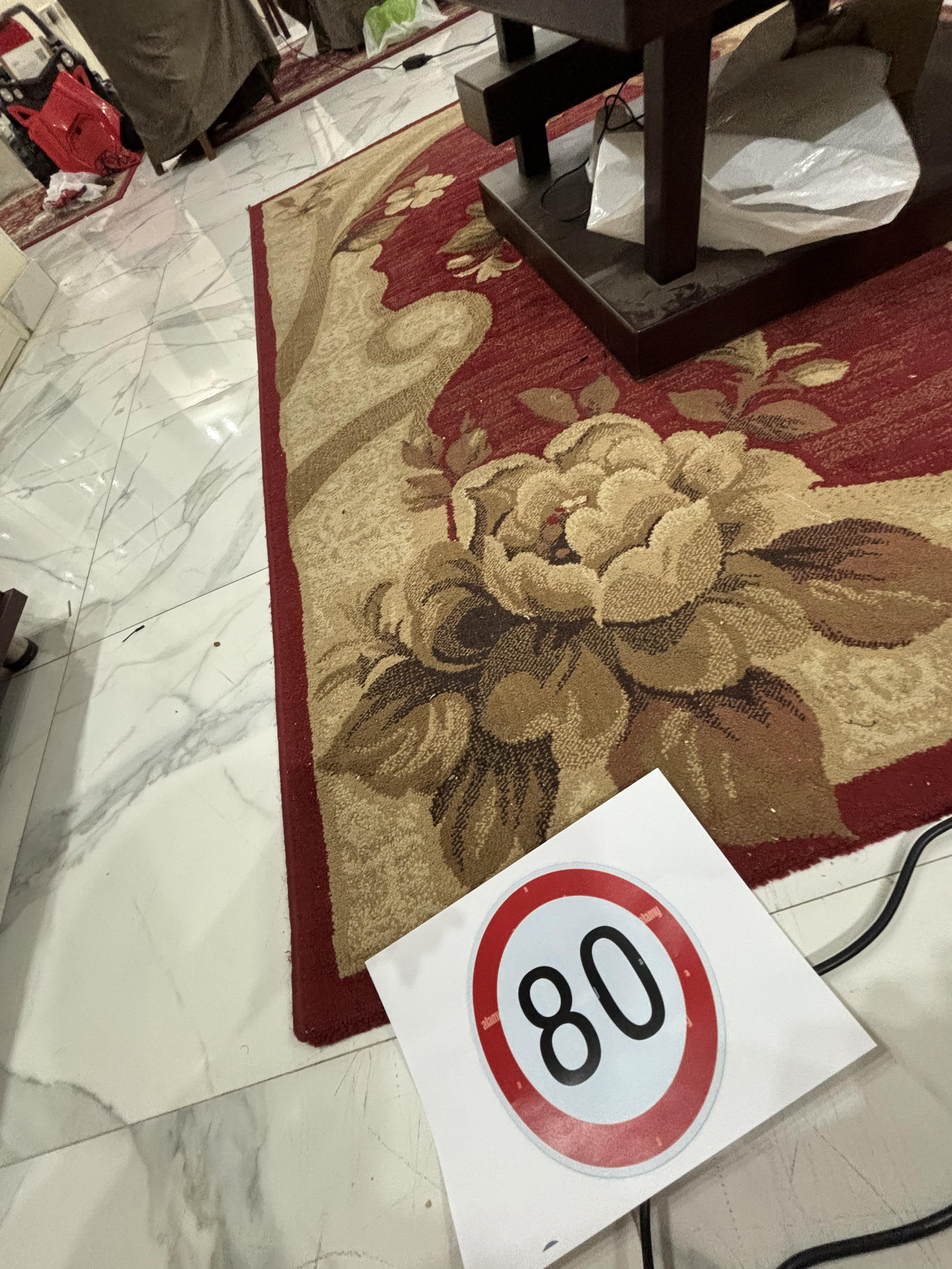80-Speed: (463, 857, 734, 1175)
